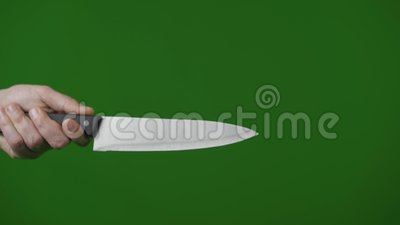knife: (52, 114, 259, 153)
